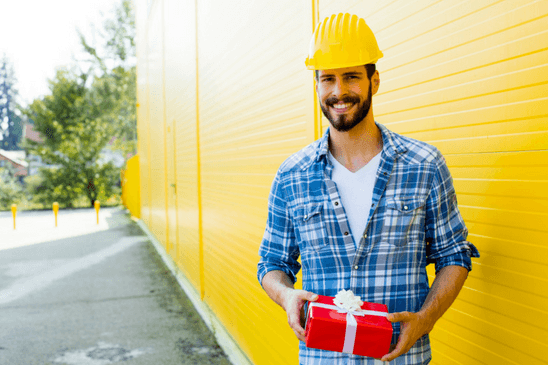hard hat: (305, 13, 382, 69)
